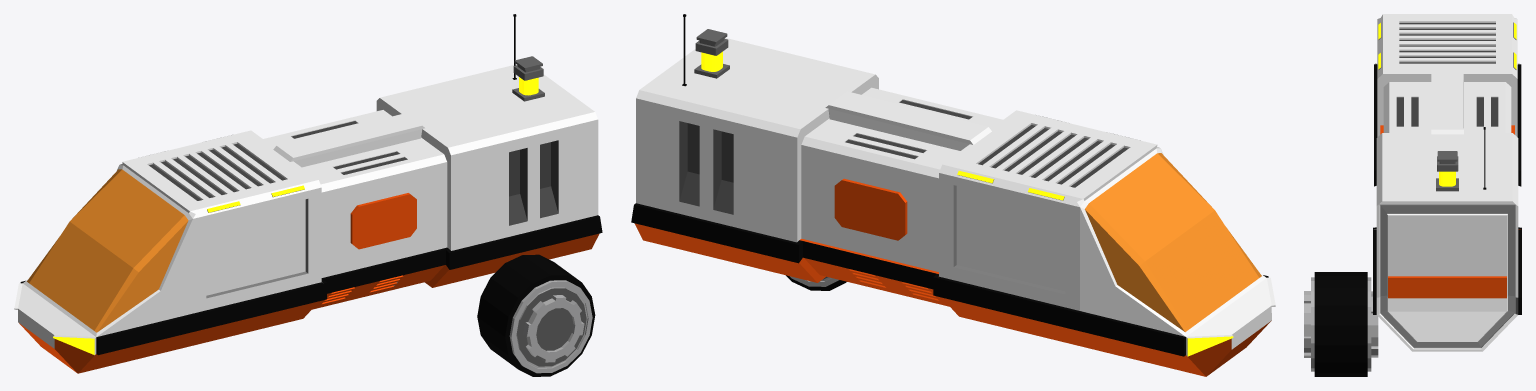
Rendered from wheel.fbx.
The picture shows the model from 3 angles, left to right: view 1: azimuth 30°, elevation 25°; view 2: azimuth 150°, elevation 25°; view 3: azimuth 270°, elevation 25°; orthographic projection. The views are drawn at different scales.
Parts seen in each view (by area): view 1: Cube, Wheel.002; view 2: Cube; view 3: Cube, Wheel.002.
Boxes of the visible parts, x1,y1,x2,y2 form: Cube: (14, 14, 602, 373); Wheel.002: (477, 254, 595, 376); Cube: (631, 14, 1275, 376); Cube: (1373, 14, 1521, 351); Wheel.002: (1304, 272, 1378, 376).
Bounding box in the file's own units: 837 × 421 × 307.
